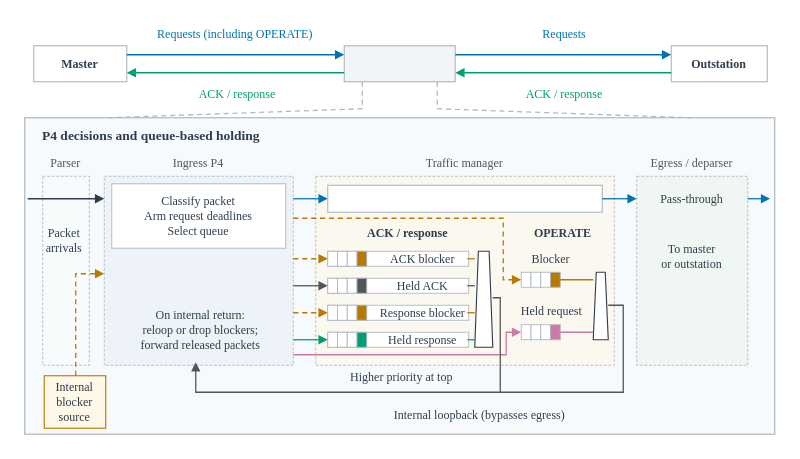
This 800x459 diagram has some shape labels left out. The shapes that lost their labels are listed below. From the top down, each one's box as (x1, y1, x2, y2) in pixels, then its label:
(343, 44, 455, 82): P4 switch
(326, 184, 602, 212): Forwarding queues (new or released)
